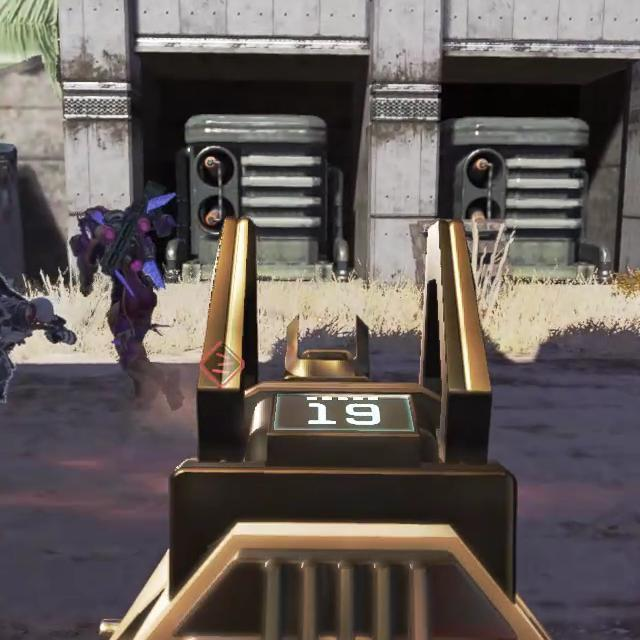avatar: (65, 192, 188, 412)
